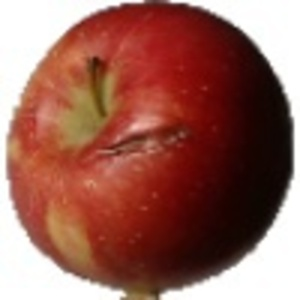maçã braeburn: (1, 1, 299, 286)
